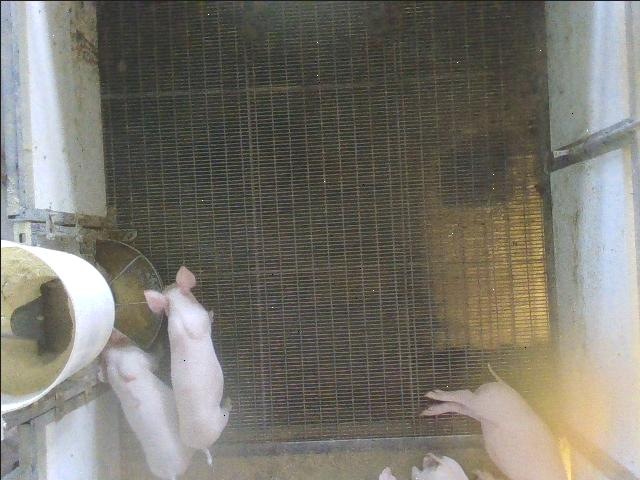pig-5: (101, 328, 192, 479)
